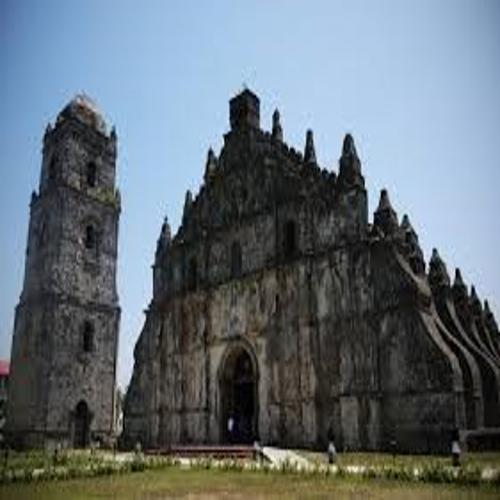Paoay Church: (8, 88, 496, 459)
